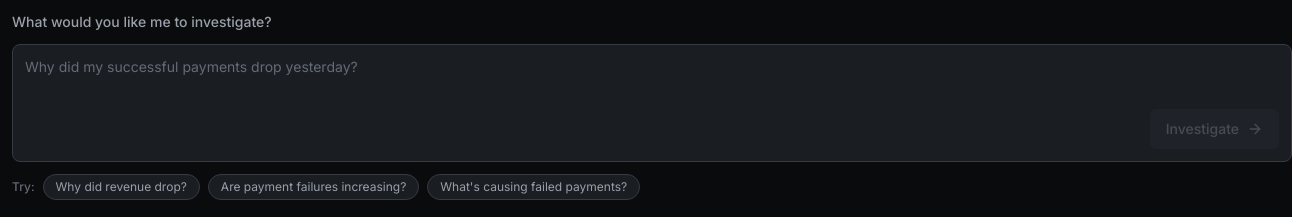
Scenario: QuestionForm › has a labeled textarea and disables submit until there's input
Expected: the button "Investigate" is disabled, [1150, 109, 1279, 149]
Type "Why did revenue drop?" into the text box labelled "What would you like me to investigate?" at (652, 77), box [25, 57, 1279, 97]
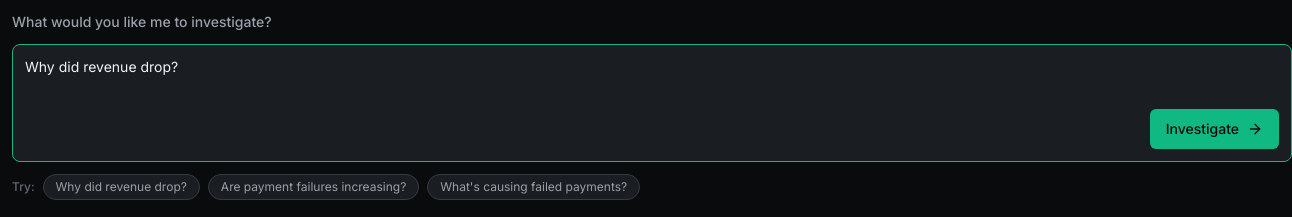
Expected: the button "Investigate" is enabled, [1150, 109, 1279, 149]
